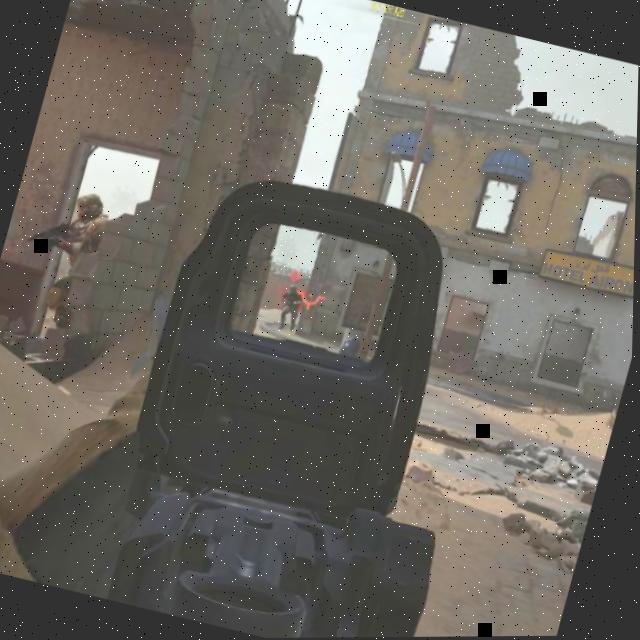MW2_body: (39, 188, 116, 333), (275, 269, 312, 334)
